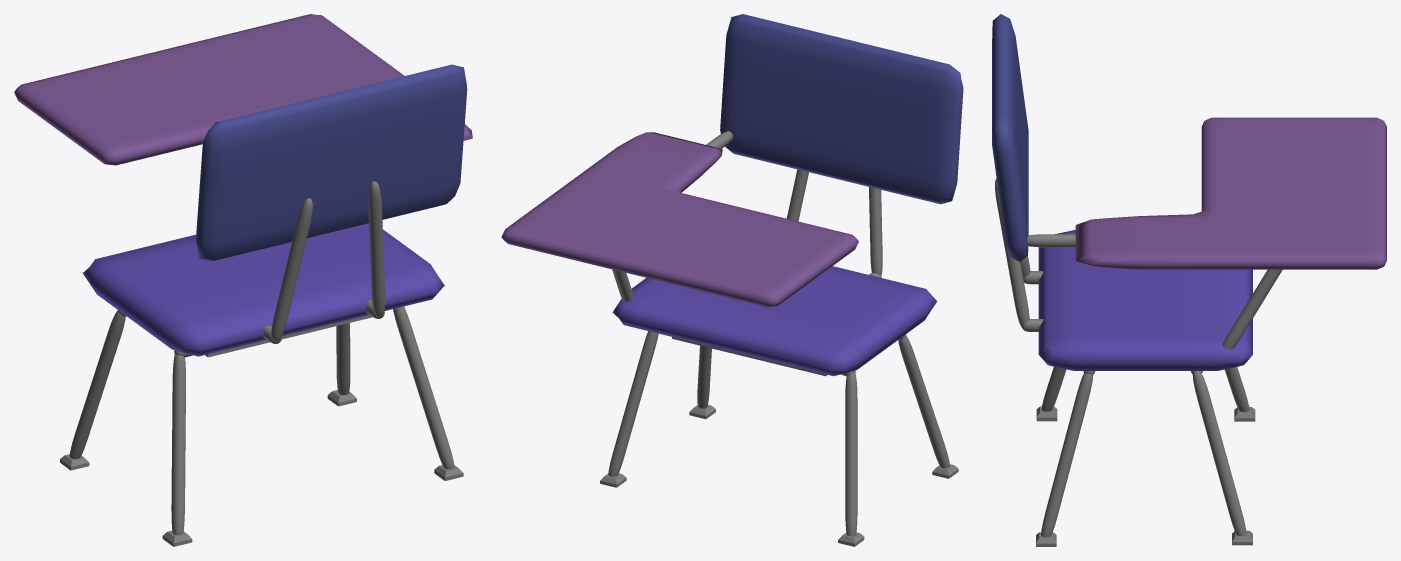
File: schooldesk.fbx
3 renders of one model, left to right at view 1: azimuth 30°, elevation 25°; view 2: azimuth 150°, elevation 25°; view 3: azimuth 270°, elevation 25°, orthographic. The views are drawn at different scales.
Parts seen in each view (by area): view 1: pCube3, pCube1, pCube4, pCube19, pCube20, pCube12, pCube7, pCube8, pCube21, pCube11; view 2: pCube3, pCube1, pCube4, pCube12, pCube21, pCube19, pCube7, pCube20, pCube8; view 3: pCube1, pCube4, pCube3, pCube21, pCube20, pCube22, pCube8, pCube2, pCube12, pCube19.
Boxes of the visible parts, box(x1,y1,x2,y2) form: pCube3: box(196, 64, 467, 261); pCube1: box(14, 14, 472, 165); pCube4: box(83, 223, 444, 356); pCube19: box(171, 354, 185, 535); pCube20: box(393, 306, 454, 469); pCube12: box(69, 310, 125, 458); pCube7: box(271, 198, 312, 341); pCube8: box(368, 181, 385, 317); pCube21: box(336, 323, 350, 394); pCube11: box(205, 315, 372, 357); pCube3: box(720, 14, 963, 204); pCube1: box(501, 132, 858, 307); pCube4: box(612, 266, 936, 376); pCube12: box(845, 372, 857, 536); pCube21: box(608, 331, 658, 476); pCube19: box(898, 336, 949, 468); pCube7: box(869, 187, 882, 275); pCube20: box(697, 345, 711, 408); pCube8: box(786, 169, 808, 221); pCube1: box(1075, 117, 1386, 269); pCube4: box(1038, 230, 1252, 370); pCube3: box(992, 14, 1028, 261); pCube21: box(1192, 371, 1246, 535); pCube20: box(1041, 373, 1093, 537); pCube22: box(1222, 269, 1282, 349); pCube8: box(995, 178, 1029, 327); pCube2: box(1027, 234, 1075, 247); pCube12: box(1224, 367, 1249, 411); pCube19: box(1041, 367, 1066, 411).
Bounding box in the file's own units: 2.6 × 3.27 × 2.83.
